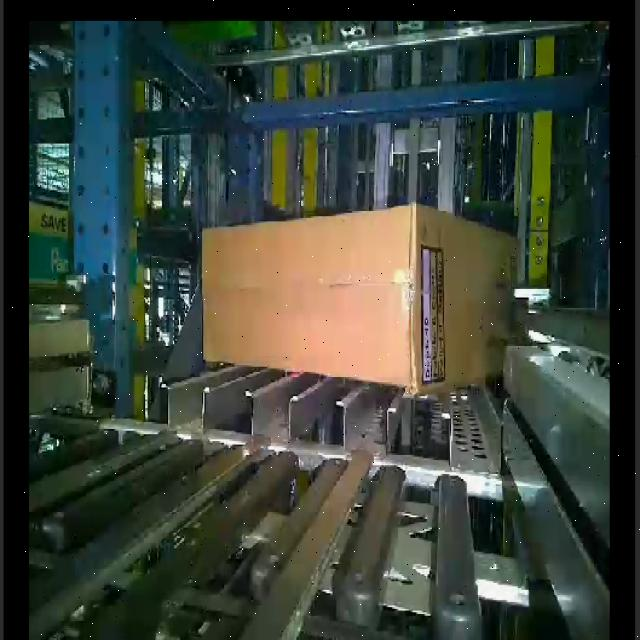box: (202, 204, 416, 391)
